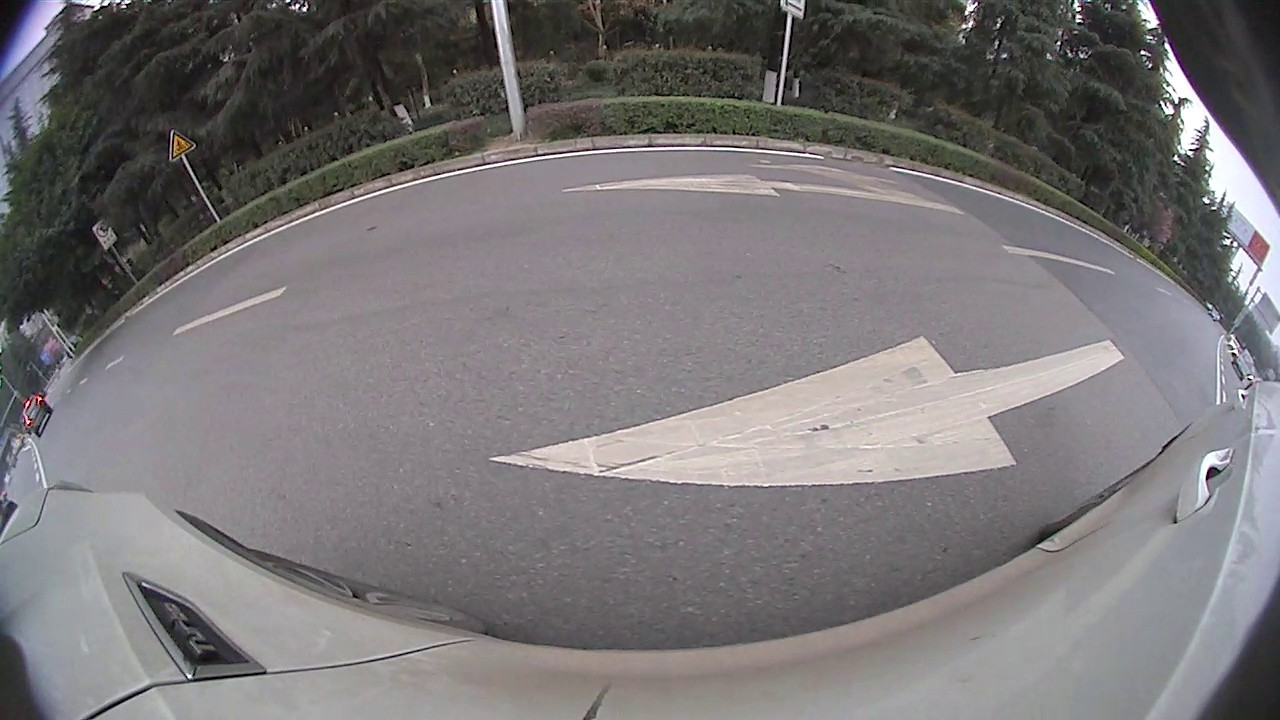car: (20, 393, 53, 438), (1231, 347, 1256, 382)
